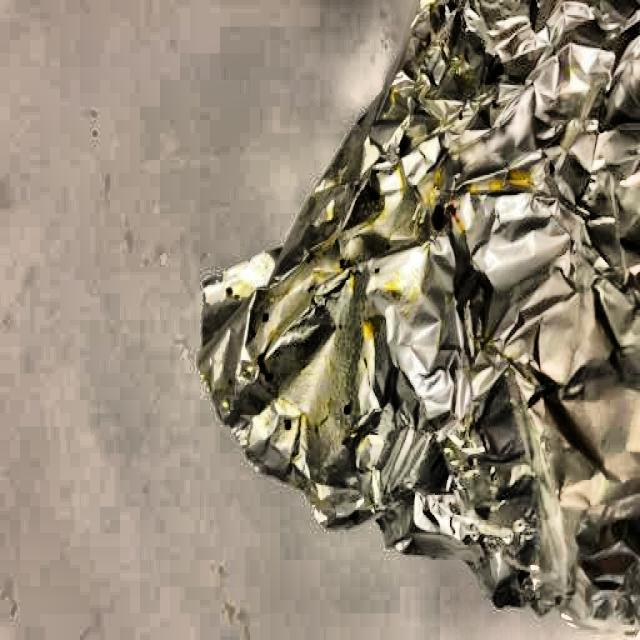metal: (193, 5, 640, 608)
